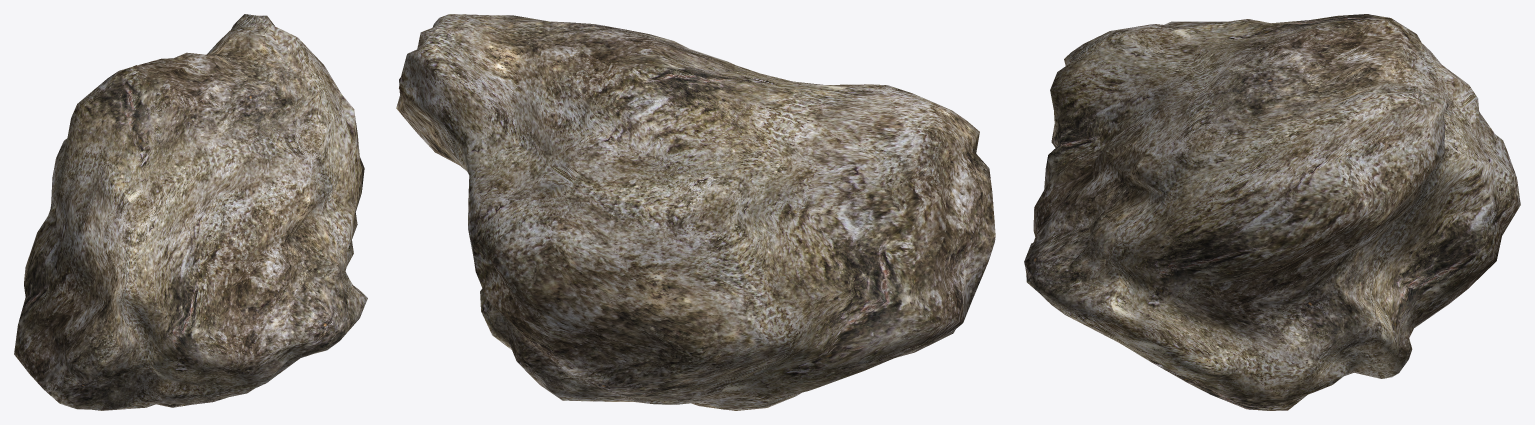
Rendered from Asteroid_11_L0.FBX.
3 renders of one model, left to right at view 1: azimuth 30°, elevation 25°; view 2: azimuth 150°, elevation 25°; view 3: azimuth 270°, elevation 25°, orthographic. The views are drawn at different scales.
Visible parts, largest first — view 1: rock; view 2: rock; view 3: rock.
Boxes of the visible parts, x1,y1,x2,y2 form: rock: [14, 14, 367, 410]; rock: [396, 14, 995, 410]; rock: [1024, 14, 1520, 410].
Bounding box in the file's own units: 2.44 × 1.87 × 2.3.
